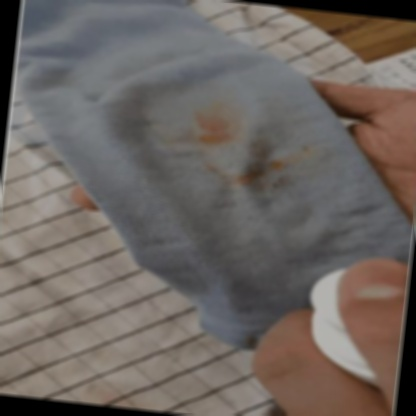kimchi: (193, 102, 236, 156), (264, 138, 317, 174), (240, 158, 272, 188), (269, 171, 294, 196), (199, 157, 223, 178)
